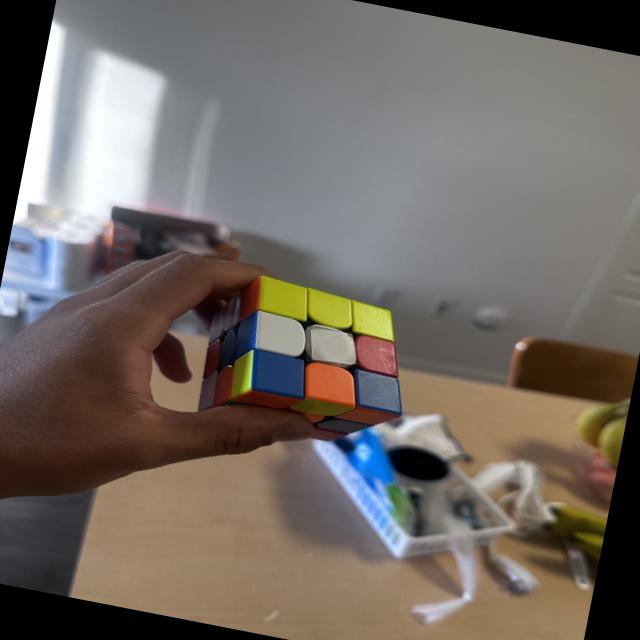sticker: (224, 344, 311, 417), (292, 358, 364, 424), (345, 367, 412, 422), (248, 308, 313, 362), (252, 272, 315, 326), (299, 320, 364, 372), (348, 332, 407, 380), (300, 286, 358, 334), (343, 298, 401, 344)
